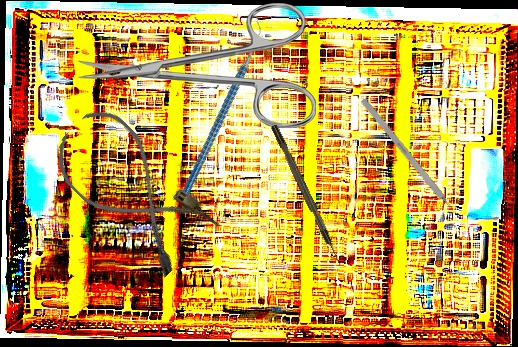Cannula: (42, 98, 222, 282)
Chopper: (129, 14, 313, 200)
Hook Surgical: (360, 97, 464, 224), (270, 123, 344, 268)
Iris Scissors: (78, 3, 316, 128)
